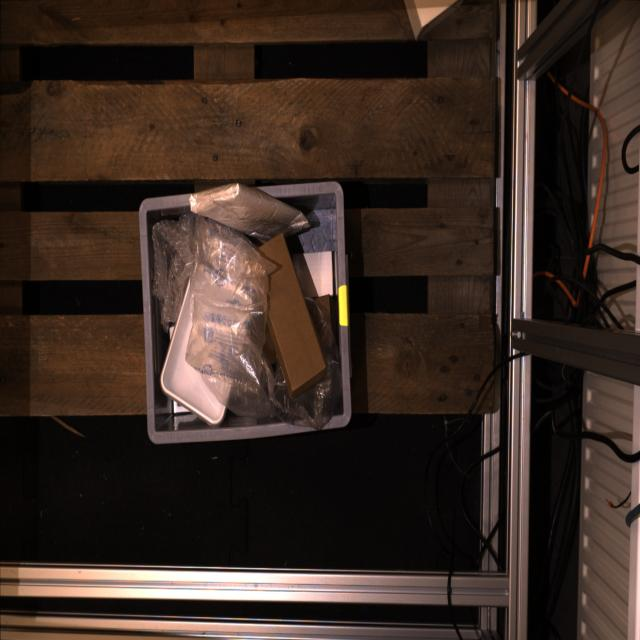CardboardBox: (251, 234, 326, 398), (292, 249, 334, 296)
Package: (188, 182, 311, 242)
PackagingAirBags: (185, 214, 277, 418), (270, 300, 341, 428), (152, 213, 197, 331)
PlasticContainer: (161, 266, 251, 425)
